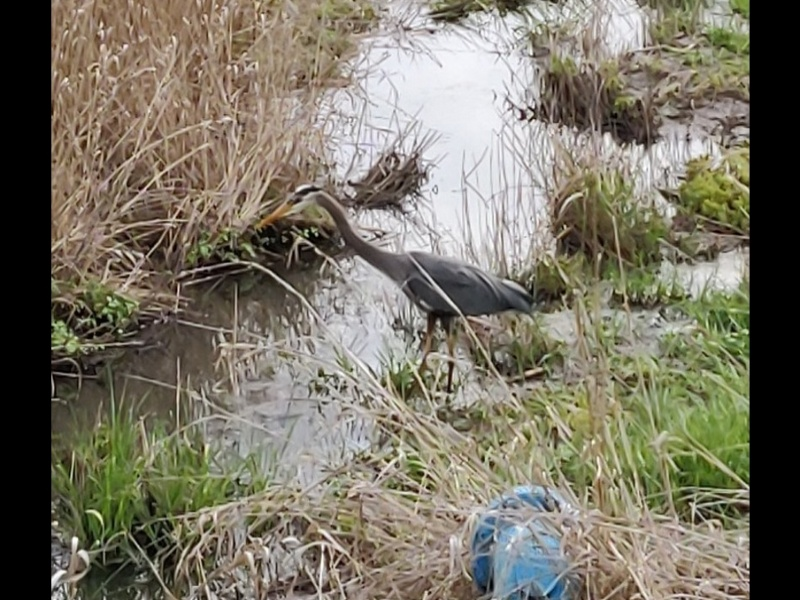heron: (256, 183, 530, 411)
